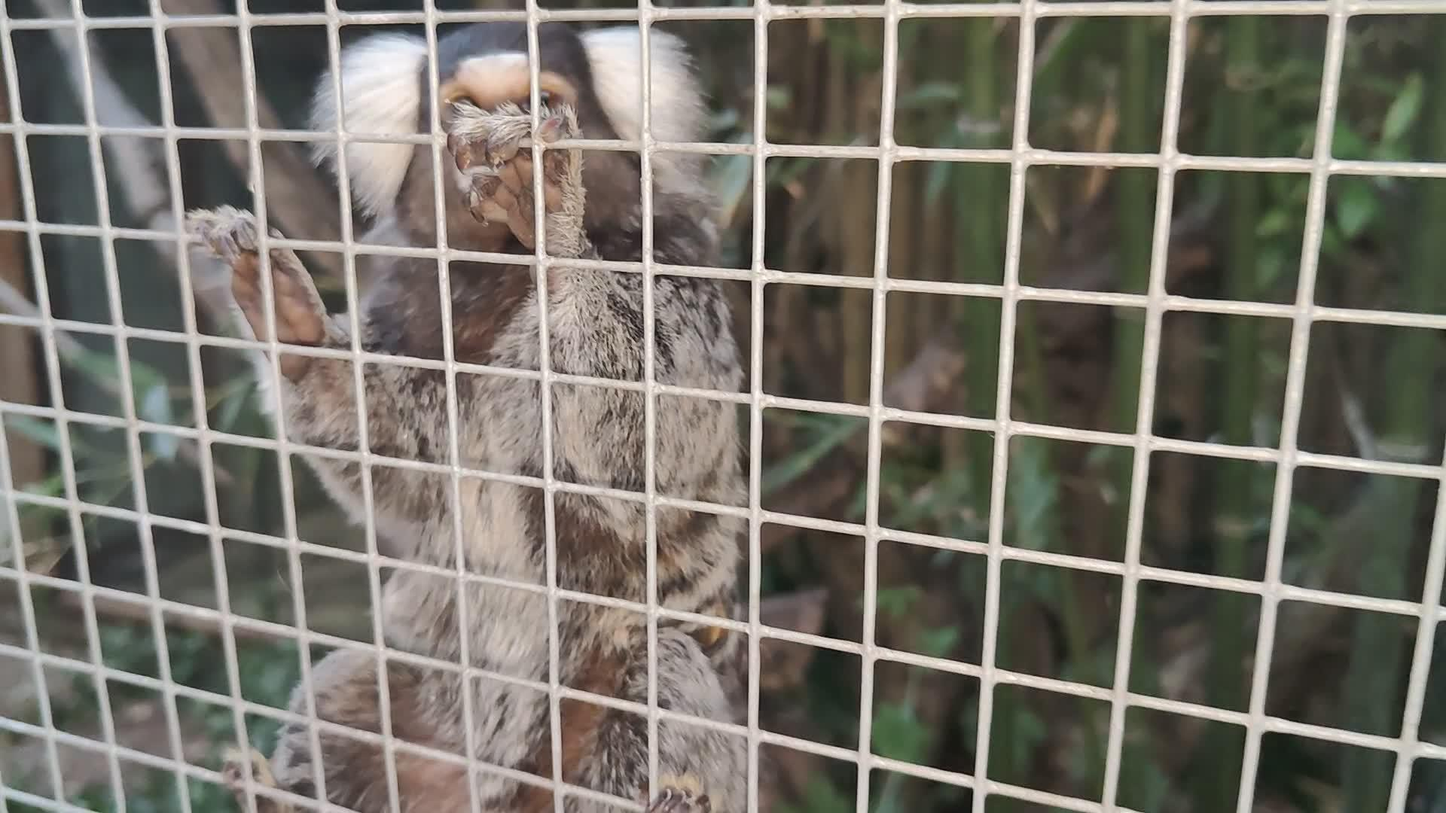boar: (182, 20, 748, 813)
